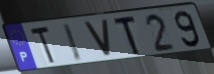2: (145, 12, 177, 53)
9: (174, 10, 202, 49)
I: (61, 22, 85, 63)
T: (112, 14, 142, 57), (28, 25, 57, 67)
V: (82, 19, 114, 59)
